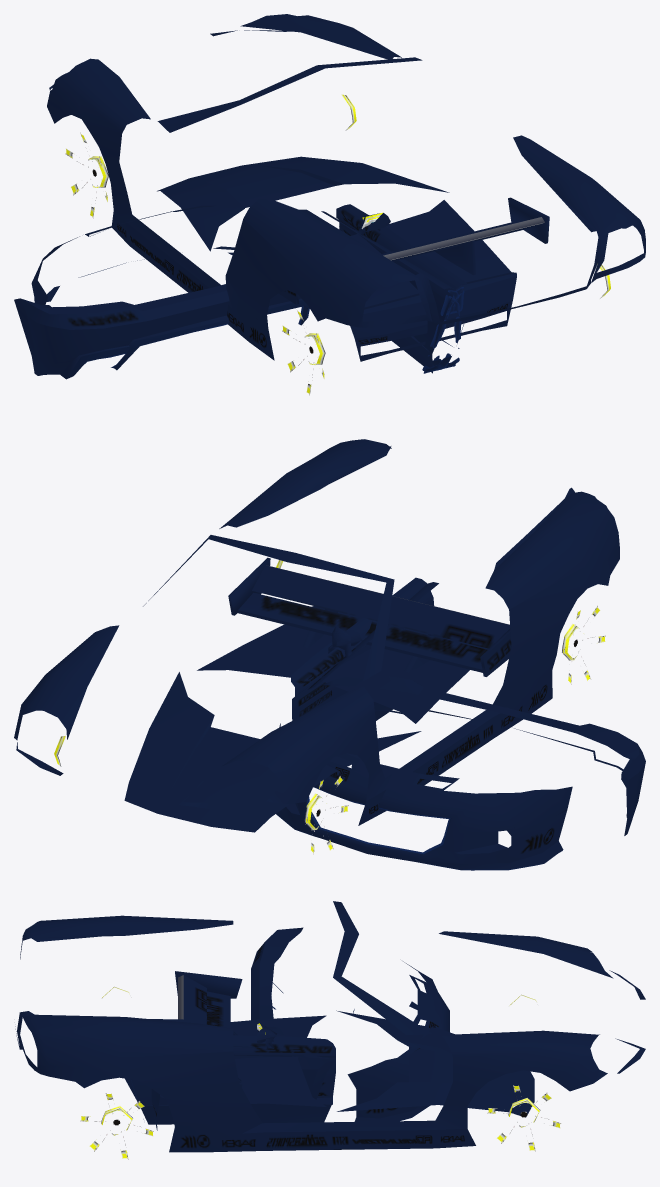
The model's file is car-SPRT_Car1.glb.
3 renders of one model, top to bottom at view 1: azimuth 30°, elevation 25°; view 2: azimuth 150°, elevation 25°; view 3: azimuth 270°, elevation 25°, orthographic. The views are drawn at different scales.
Parts seen in each view (by area): view 1: SPRT_Car1; view 2: SPRT_Car1; view 3: SPRT_Car1.
Part boxes in pixels (<box>): SPRT_Car1: <box>14,14,645,395</box>; SPRT_Car1: <box>14,439,645,870</box>; SPRT_Car1: <box>15,901,645,1159</box>.
Size of the model in its own units: 2.97 by 1.37 by 3.96.
19 materials, 19 textured.
